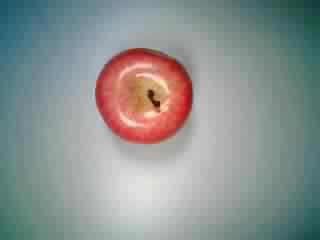apple: (91, 44, 195, 148)
